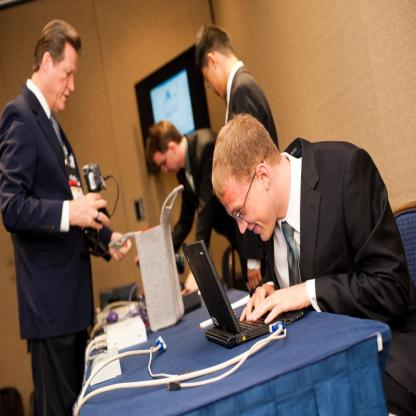board: (182, 238, 304, 348)
